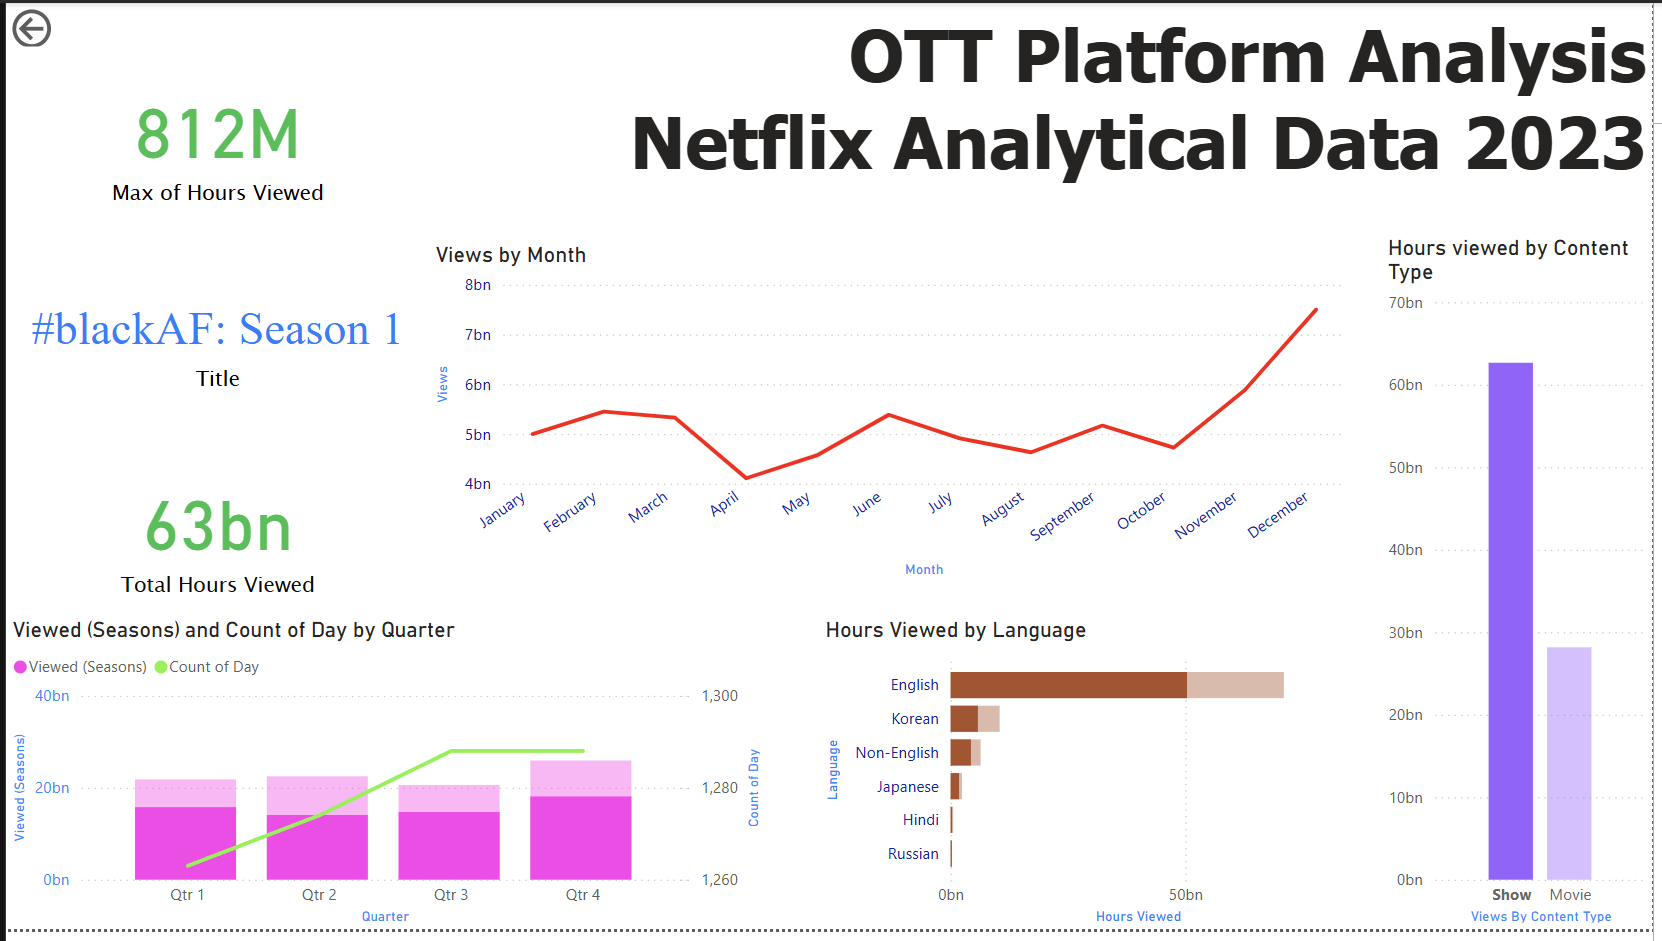

What the dashboard file says about the page in this screenshot:
{"tool":"powerbi","page":{"name":"Page 1","canvas":[1280,720],"ordinal":0},"visuals":[{"type":"lineChart","fields":{"Category":["netflix_content_2023.Release Date.Variation.Date Hierarchy.Month"],"Y":["Sum(netflix_content_2023.Hours Viewed)"]},"box":[328.7,185.4,716.5,264.9],"z":0},{"type":"columnChart","fields":{"Category":["netflix_content_2023.Content Type"],"Y":["Sum(netflix_content_2023.Hours Viewed)"]},"box":[1069.3,179.4,210.7,540.7],"z":1000},{"type":"barChart","fields":{"Category":["netflix_content_2023.Language Indicator"],"Y":["Sum(netflix_content_2023.Hours Viewed)"]},"box":[632.2,476.8,413,243.2],"z":2000},{"type":"actionButton","box":[0,0,100,40],"z":3000},{"type":"lineStackedColumnComboChart","fields":{"Category":["netflix_content_2023.Release Date.Variation.Date Hierarchy.Quarter"],"Y":["Sum(netflix_content_2023.Hours Viewed)"],"Y2":["CountNonNull(netflix_content_2023.Release Date.Variation.Date Hierarchy.Day)"]},"box":[0,476.8,591.2,243.2],"z":4000},{"type":"textbox","box":[363.7,0,916.3,179.4],"z":5000},{"type":"card","fields":{"Values":["Min(netflix_content_2023.Title)"]},"box":[0,179.4,328.7,167.4],"z":6000},{"type":"card","fields":{"Values":["Sum(netflix_content_2023.Hours Viewed)"]},"box":[0,346.8,328.7,130],"z":7000},{"type":"card","fields":{"Values":["Max(netflix_content_2023.Hours Viewed)"]},"box":[0,33.7,328.7,145.7],"z":8000}]}

Visuals, with their boxes in screenshot pixels (x1, y1, x2, y2), scaled from the page's 1280x720 canvas onto the 1662x941 screenshot:
lineChart - netflix_content_2023.Release Date.Variation.Date Hierarchy.Month x Sum(netflix_content_2023.Hours Viewed): l=427, t=242, r=1357, b=589
columnChart - netflix_content_2023.Content Type x Sum(netflix_content_2023.Hours Viewed): l=1388, t=234, r=1661, b=940
barChart - netflix_content_2023.Language Indicator x Sum(netflix_content_2023.Hours Viewed): l=821, t=623, r=1357, b=940
actionButton: l=0, t=0, r=130, b=52
lineStackedColumnComboChart - netflix_content_2023.Release Date.Variation.Date Hierarchy.Quarter x Sum(netflix_content_2023.Hours Viewed): l=0, t=623, r=768, b=940
textbox: l=472, t=0, r=1661, b=234
card - Min(netflix_content_2023.Title): l=0, t=234, r=427, b=453
card - Sum(netflix_content_2023.Hours Viewed): l=0, t=453, r=427, b=623
card - Max(netflix_content_2023.Hours Viewed): l=0, t=44, r=427, b=234
